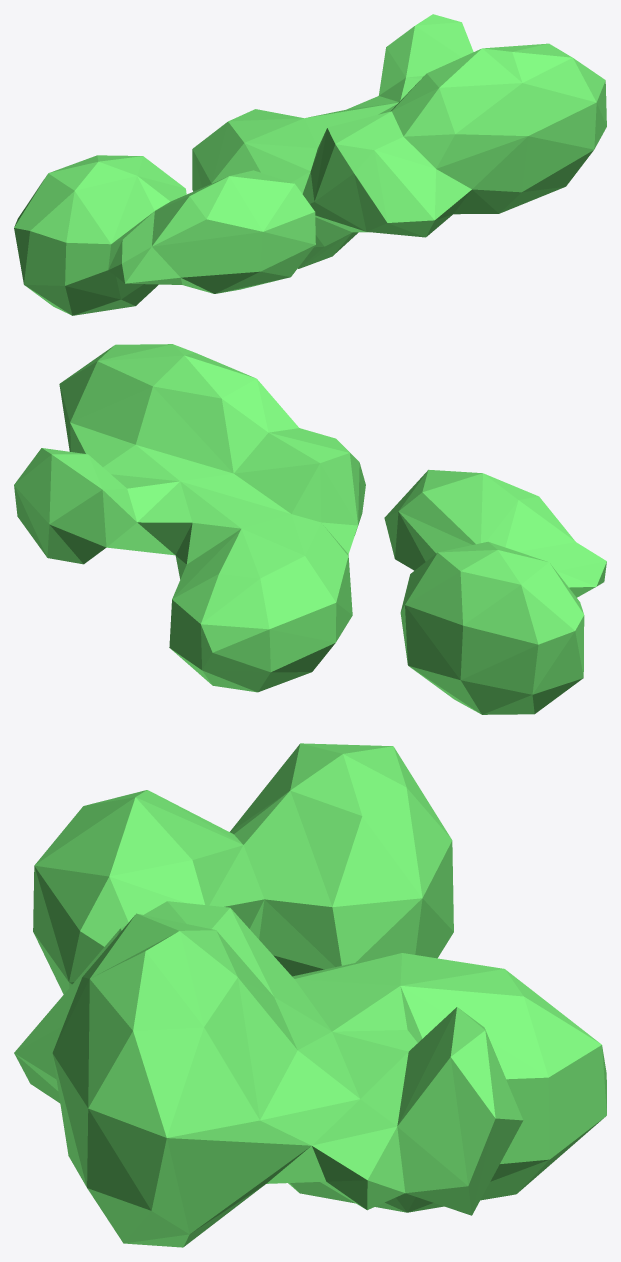
File: cloud_01.glb
3 views of the same model, one above another, from view 1: azimuth 30°, elevation 25°; view 2: azimuth 150°, elevation 25°; view 3: azimuth 270°, elevation 25° (orthographic). The views are drawn at different scales.
Parts seen in each view (by area): view 1: cloud_01; view 2: cloud_01; view 3: cloud_01.
Part boxes in pixels (x1,y1,x2,y2): cloud_01: (14, 14, 606, 315); cloud_01: (14, 344, 606, 714); cloud_01: (14, 743, 606, 1247).
Bounding box in the file's own units: 7.66 × 2.98 × 4.15.
